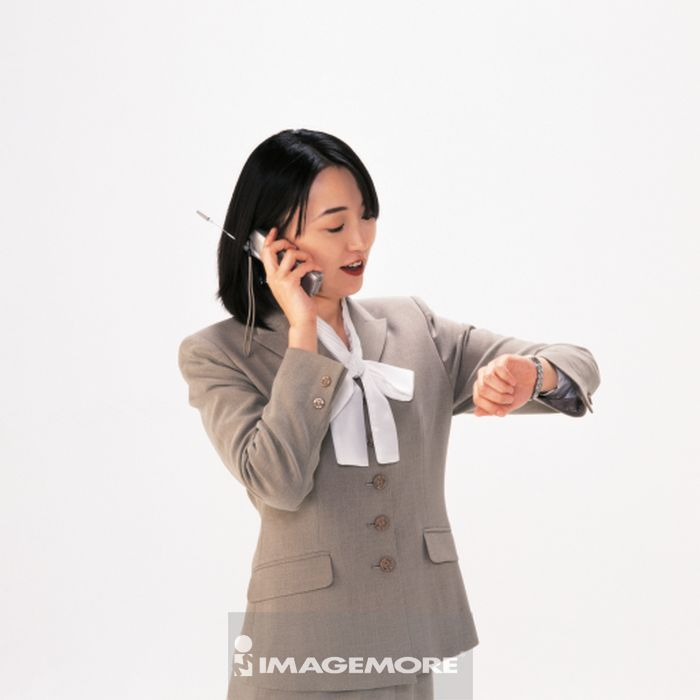talk: (248, 199, 377, 350)
